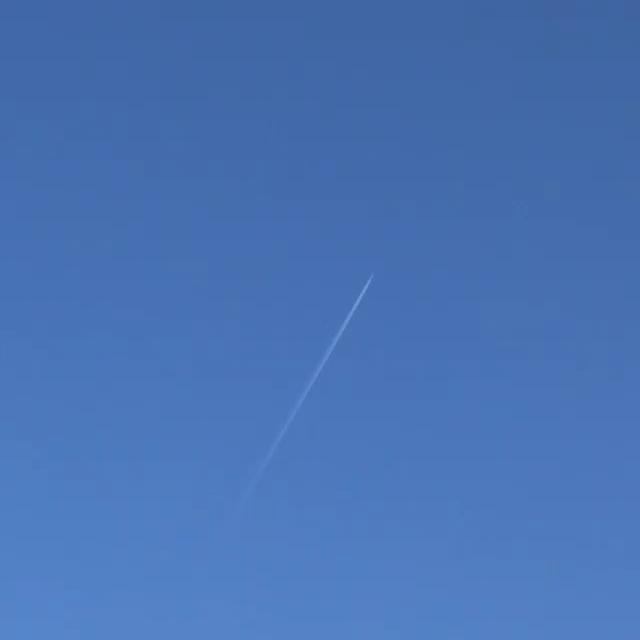AirPlane: (336, 259, 382, 339)
